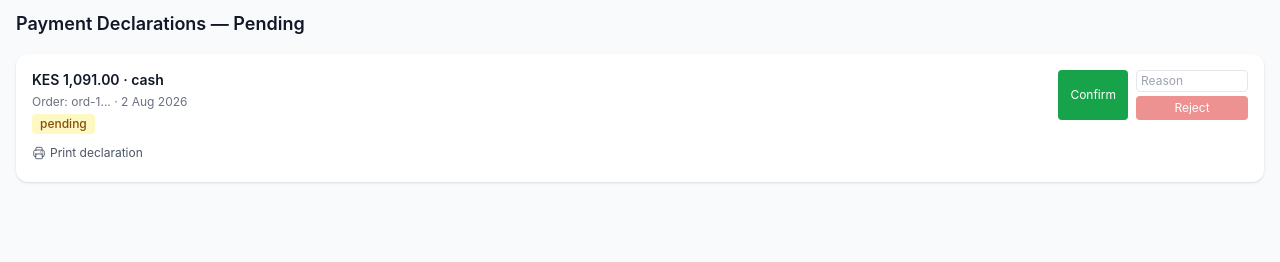
Test: R2 Correction 2 — authentic-envelope response-authoritative receipt link › 2. no additional POST/PUT/PATCH/DELETE occurs
Click the button "Confirm".
click(1093, 95)  # box 1058,70 -> 1128,120
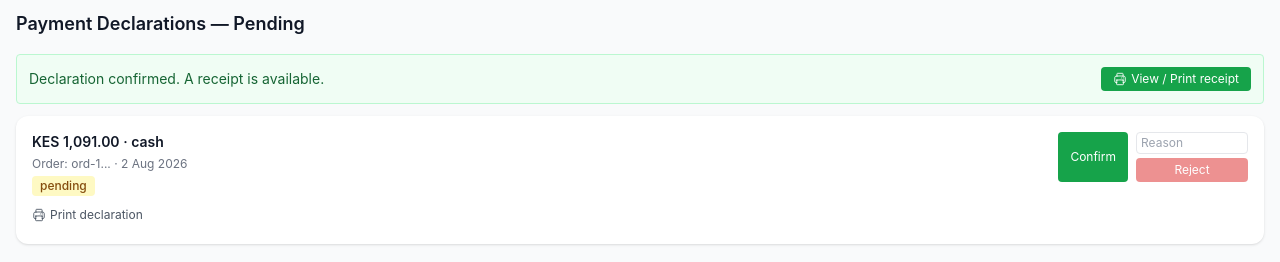
Check: the link with test id "confirmed-receipt-link" is shown, box 1101,67 -> 1251,91
